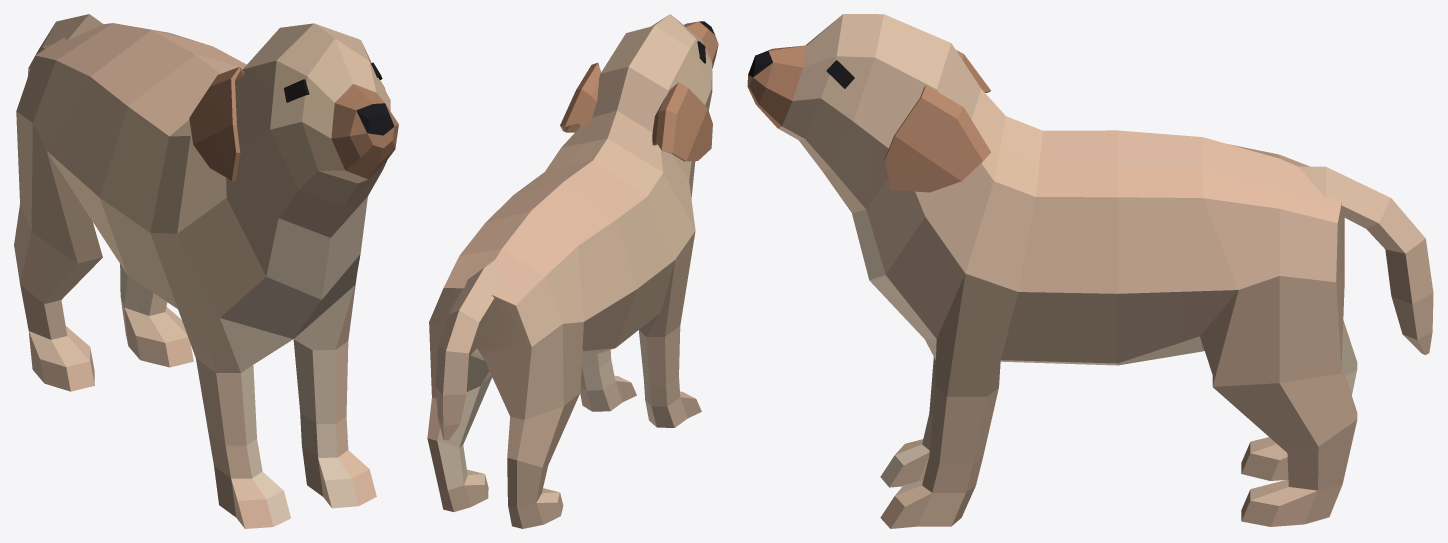
The model's file is 3nFLBC3aXen.glb.
3 views of the same model, side by side, from view 1: azimuth 30°, elevation 25°; view 2: azimuth 150°, elevation 25°; view 3: azimuth 270°, elevation 25° (orthographic). The views are drawn at different scales.
Visible parts, largest first — view 1: Geo_Puppy; view 2: Geo_Puppy; view 3: Geo_Puppy.
Part boxes in pixels (x1,y1,x2,y2): Geo_Puppy: [14, 14, 398, 528]; Geo_Puppy: [427, 14, 718, 528]; Geo_Puppy: [747, 14, 1433, 528].
Size of the model in its own units: 0.4069 by 1 by 1.29.
Materials: 1 (1 with a texture image).
